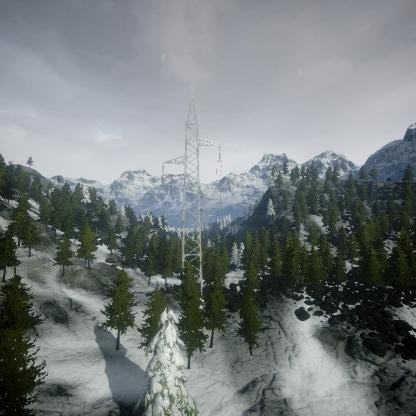tower: (161, 99, 225, 294)
